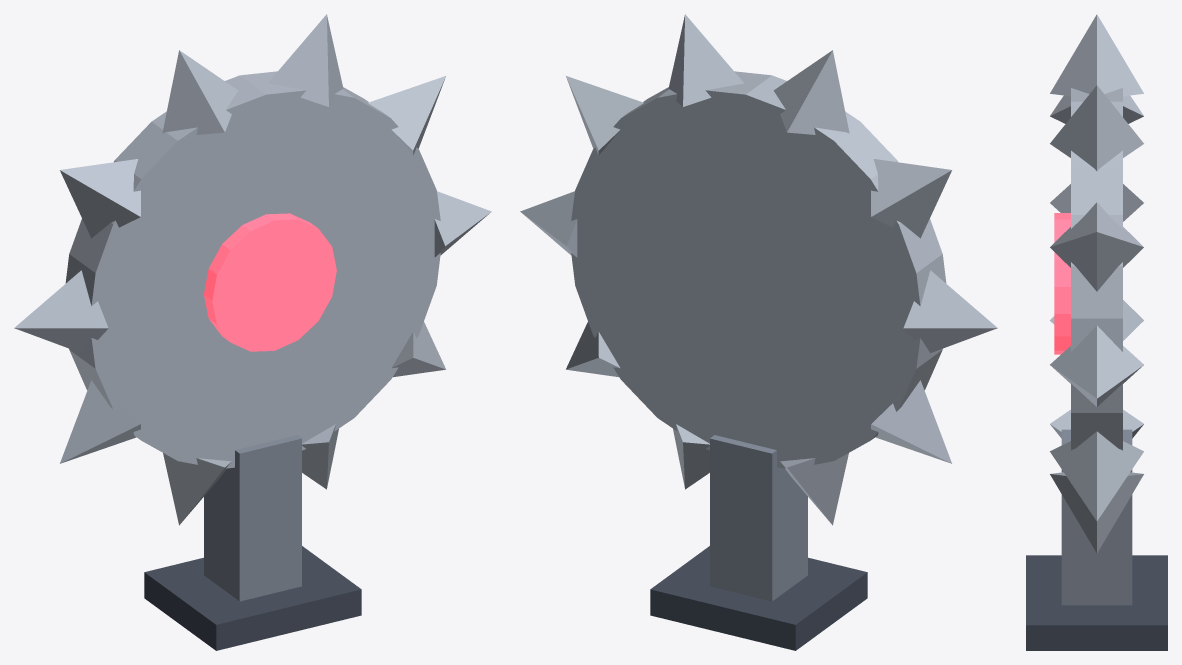
Rendered from trap_saw.glb.
3 views of the same model, side by side, from view 1: azimuth 30°, elevation 25°; view 2: azimuth 150°, elevation 25°; view 3: azimuth 270°, elevation 25° (orthographic).
Parts seen in each view (by area): view 1: trap_saw; view 2: trap_saw; view 3: trap_saw.
Boxes of the visible parts, box(x1,y1,x2,y2) form: trap_saw: box(14, 14, 491, 650); trap_saw: box(520, 14, 997, 650); trap_saw: box(1026, 14, 1167, 650).
Size of the model in its own units: 2.3 by 2.64 by 0.6.
